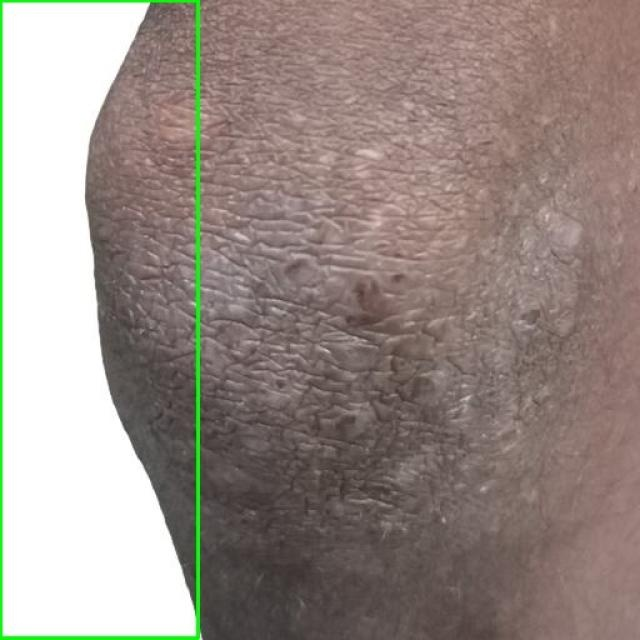Eczema: (0, 0, 199, 639)
